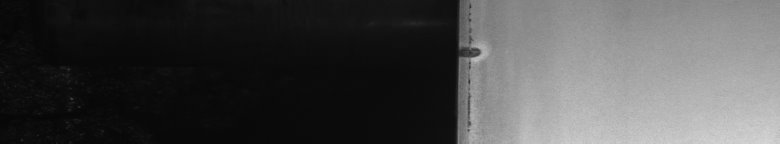hb: (468, 4, 489, 136)
